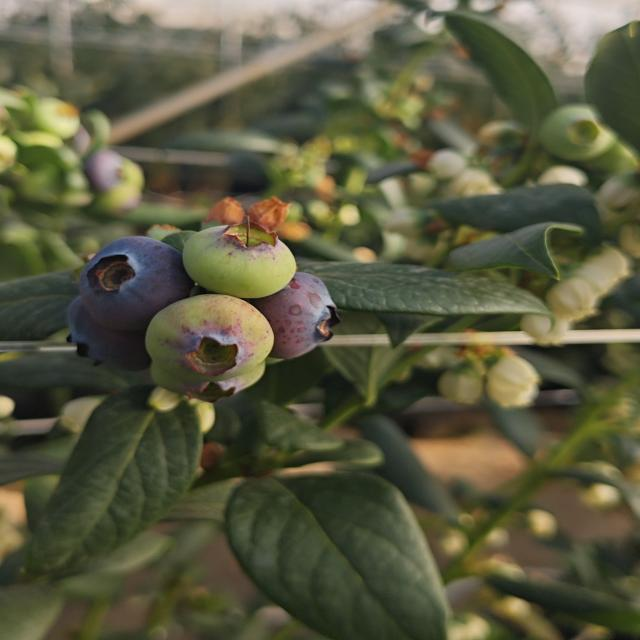ripe: (62, 238, 188, 320), (253, 274, 343, 353), (61, 308, 146, 378)
